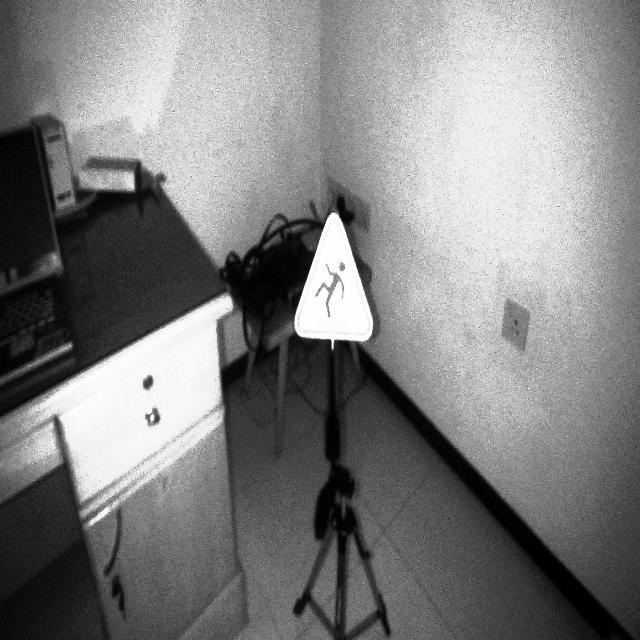Sign: (293, 211, 375, 345)
